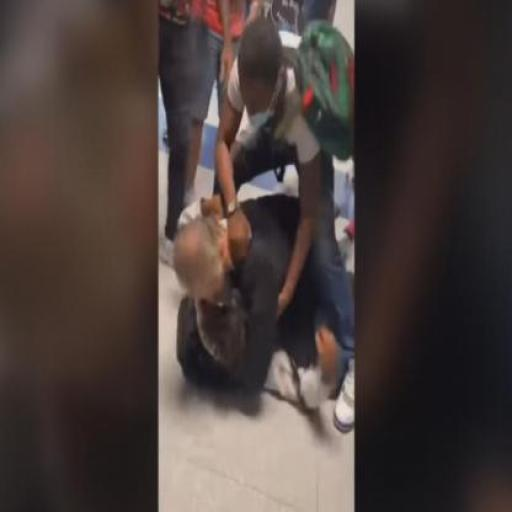Fighting: (160, 8, 352, 435)
